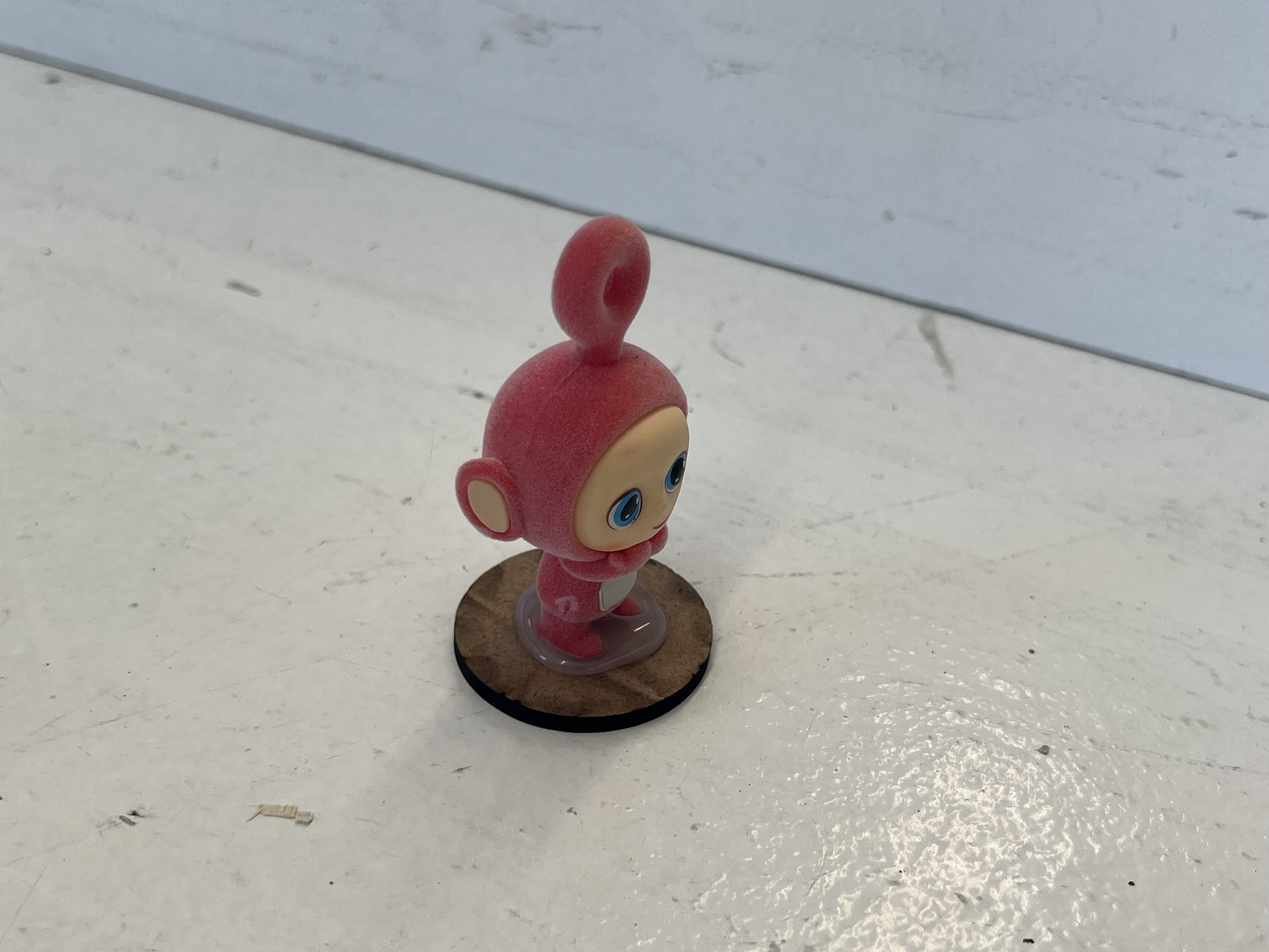teletubby: (457, 216, 689, 658)
